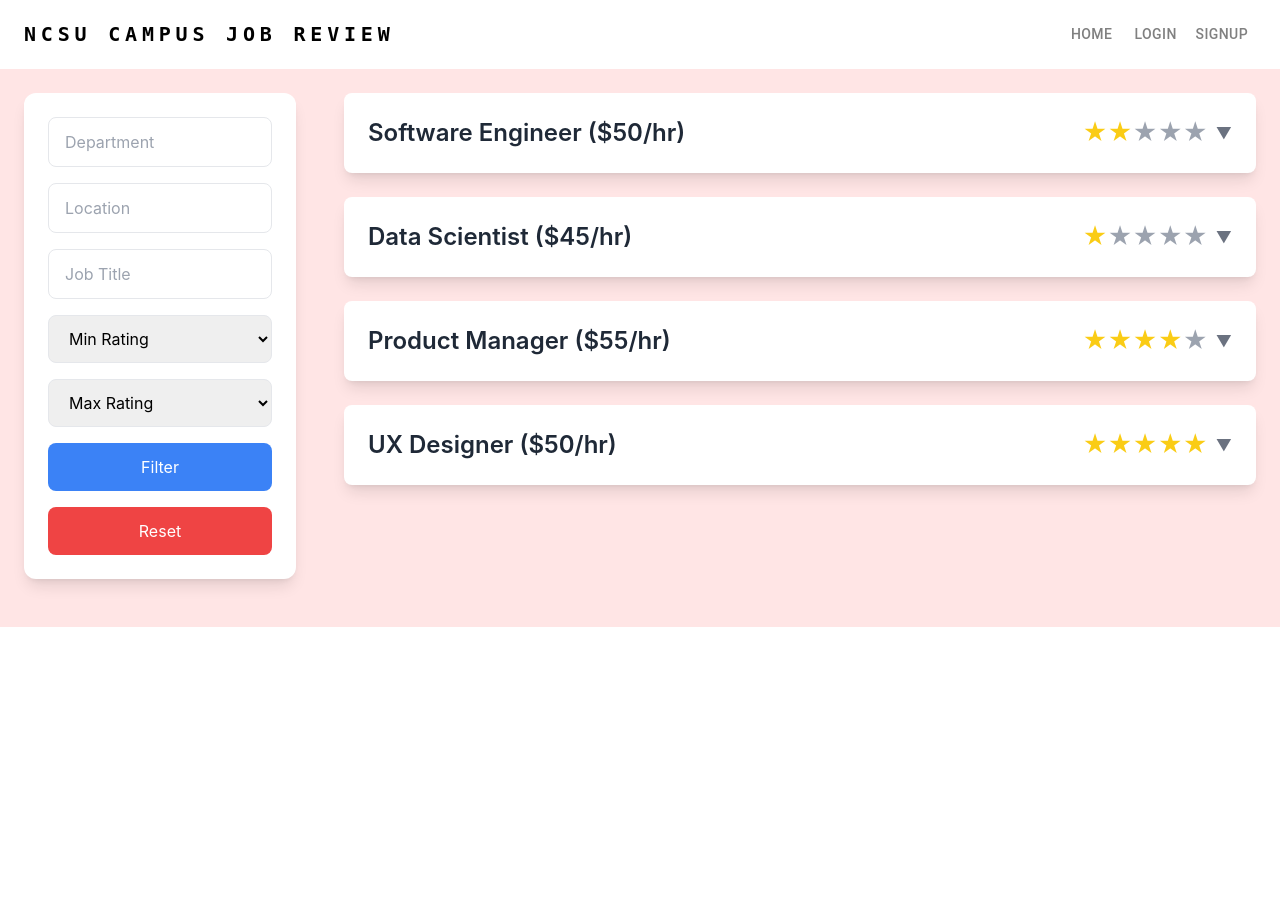
Test: ViewReview Component › Resets the filters
apply few filters
Type "Raleigh" into the field with placeholder "Location" at (160, 208), box [48,182,272,232]
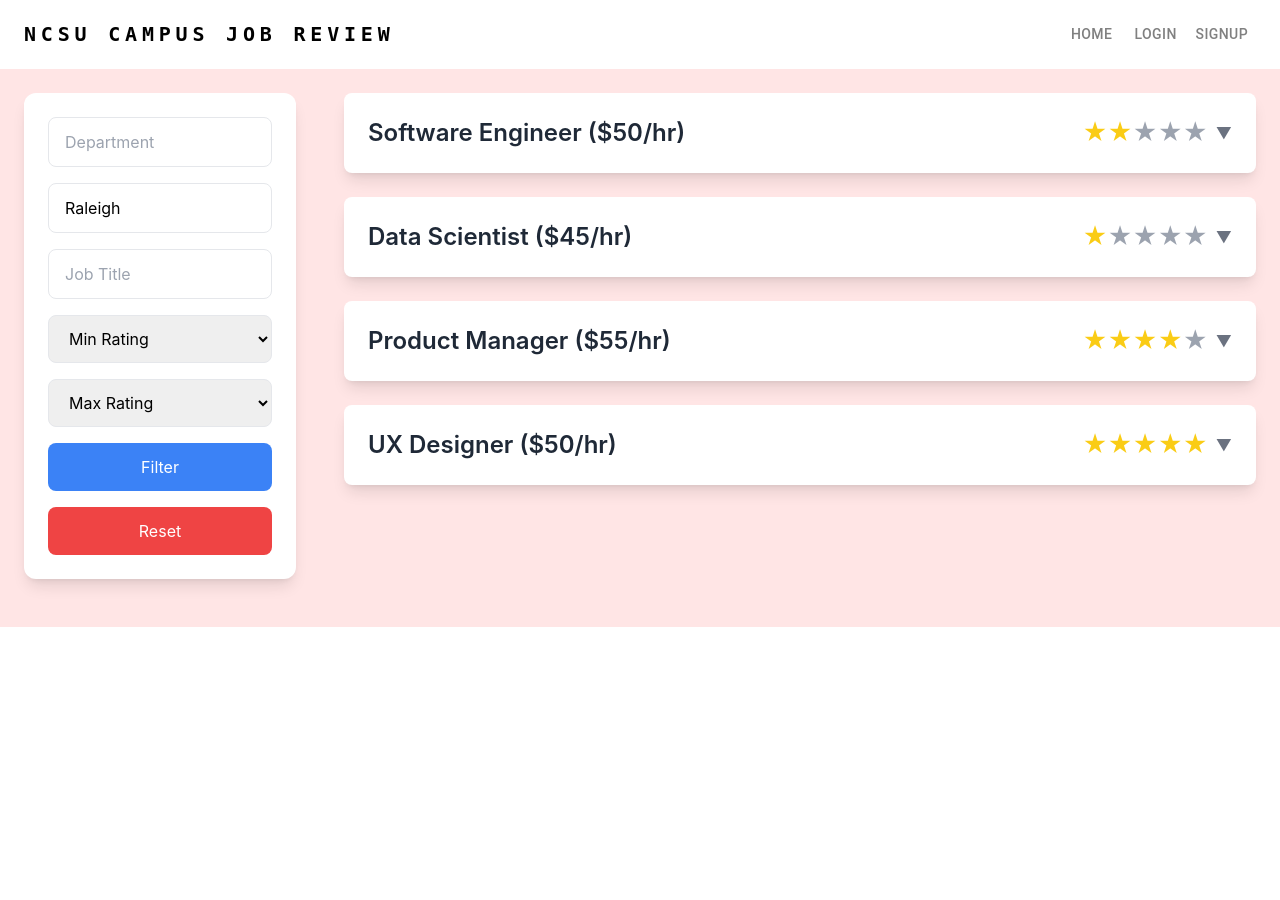
Select "3" in the dropdown named "Min Rating" at (160, 338), box [48,314,272,362]
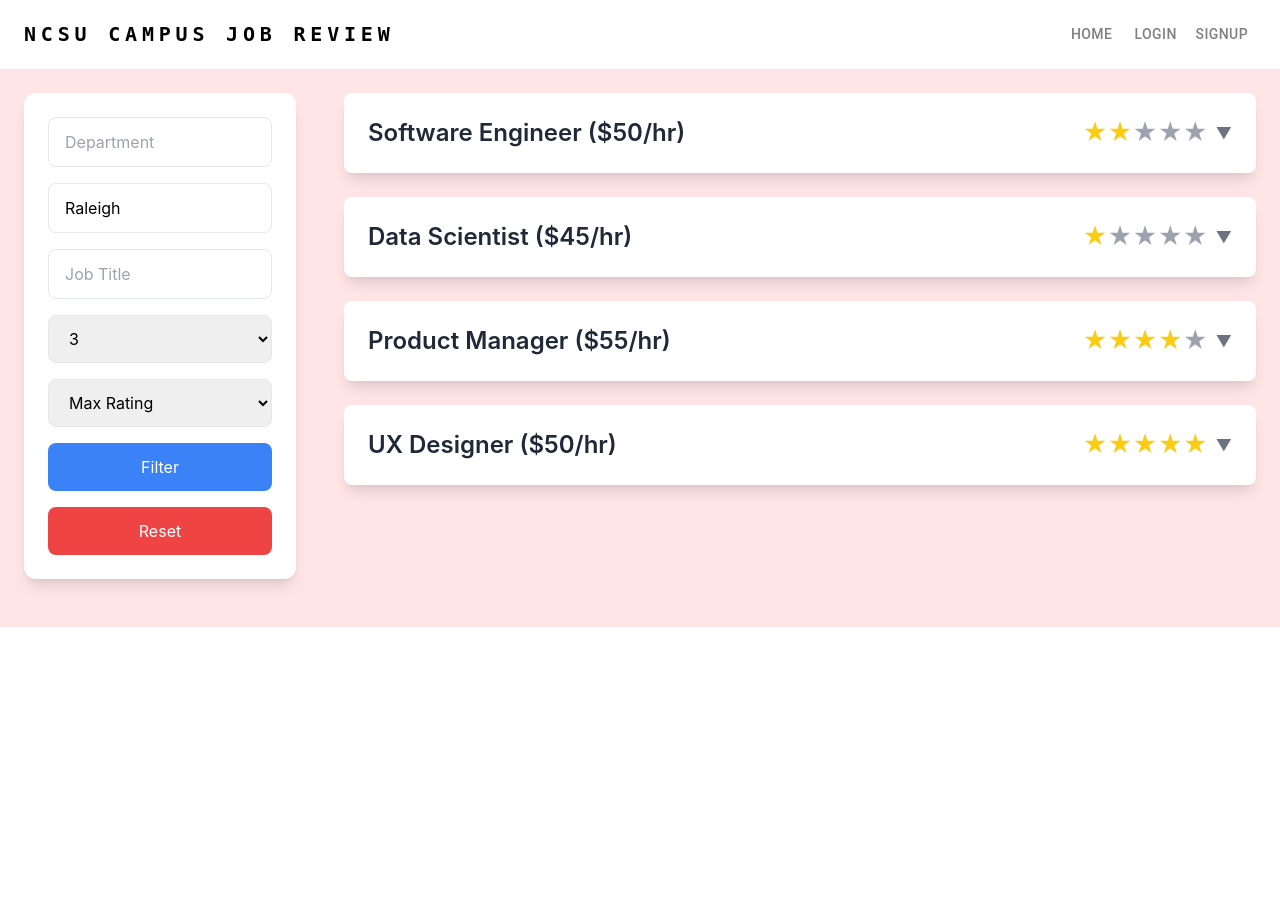
click on the filter button
Click the button "Filter" at (160, 466), box [48,442,272,490]
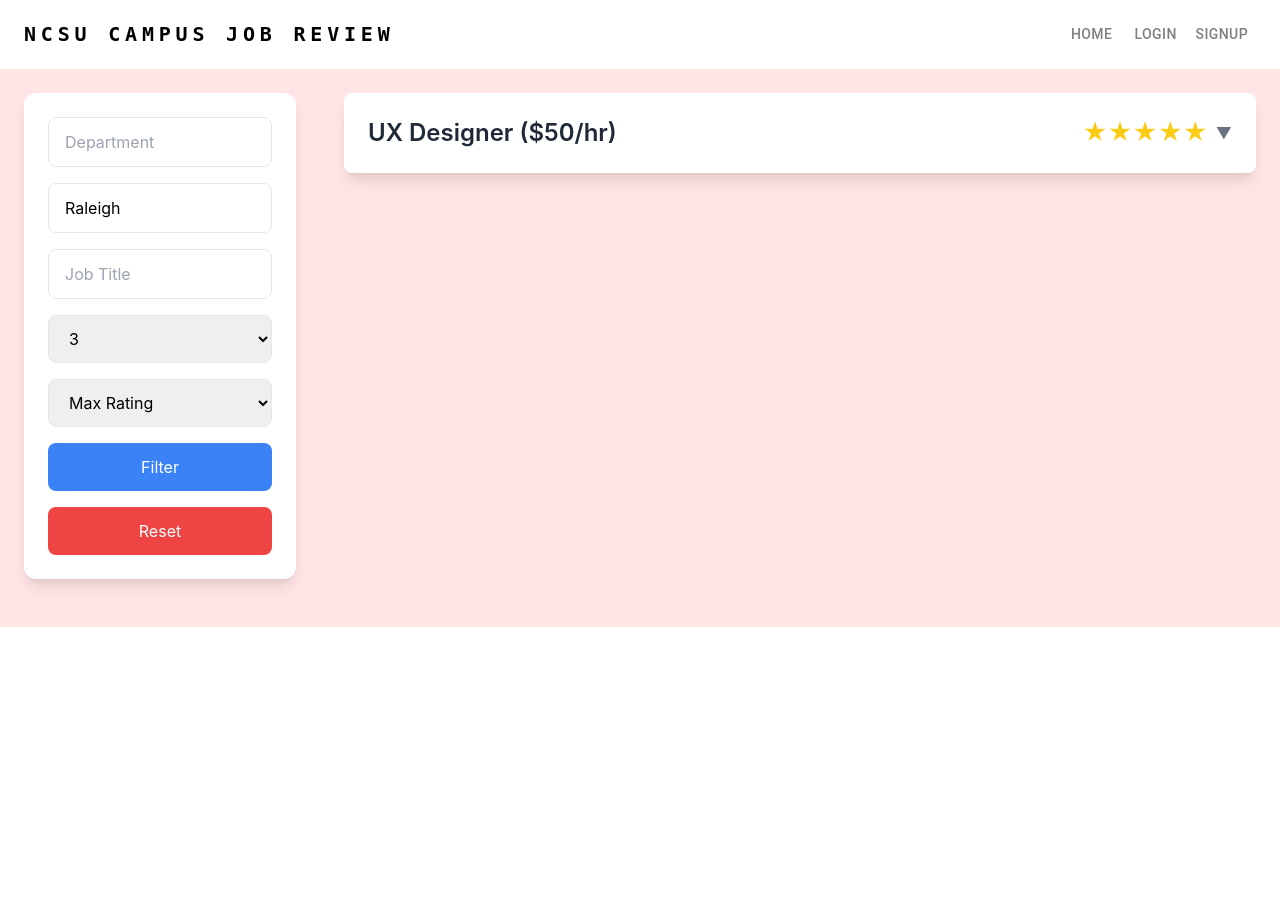
Result: the link "Software Engineer" is gone
Result: the link "Data Scientist" is gone
Result: the link "Product Manager" is gone
click on the reset button
Click the button "Reset" at (160, 530), box [48,506,272,554]
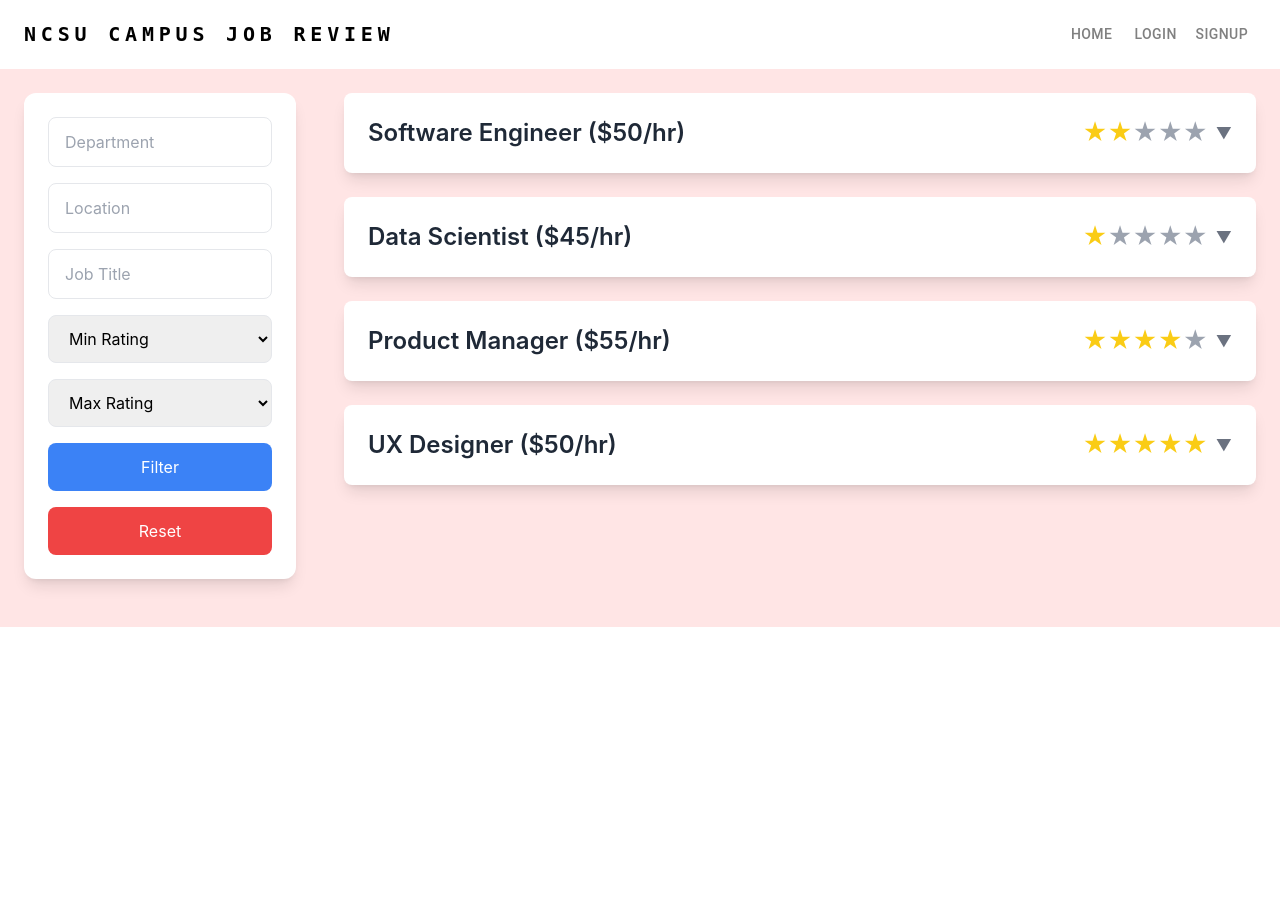
Result: the link "Software Engineer ($50/hr)" is shown at [368,118,685,146]
Result: the link "Data Scientist ($45/hr)" is shown at [368,222,632,250]
Result: the link "Product Manager ($55/hr)" is shown at [368,326,671,354]
